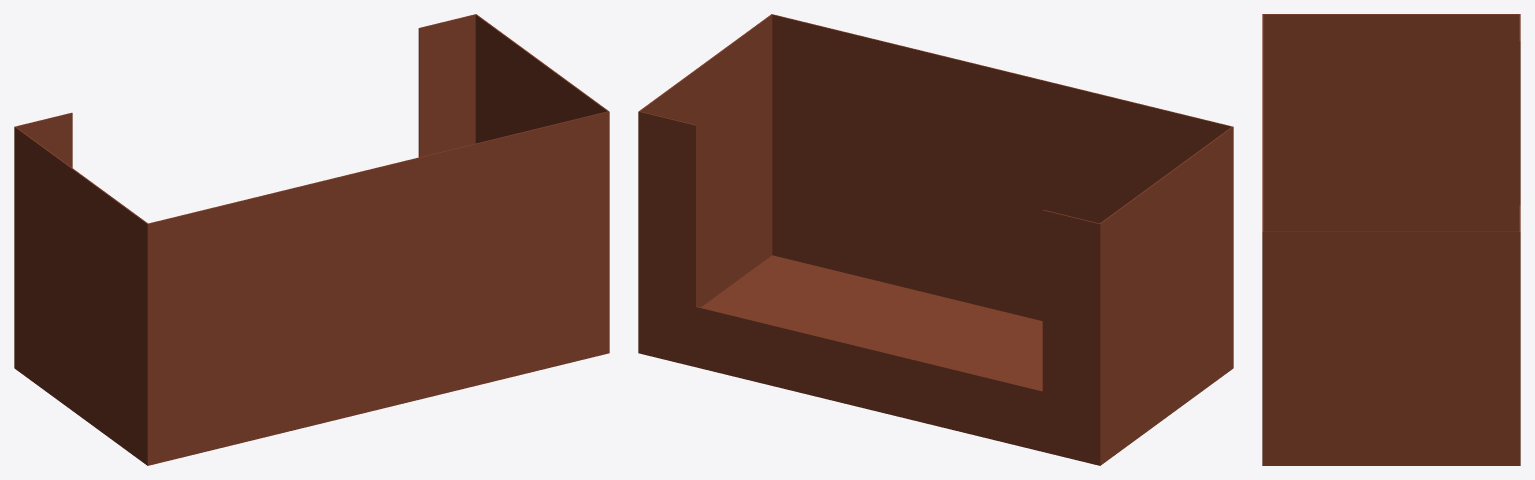
File: Grocery Box.dae
3 renders of one model, left to right at view 1: azimuth 30°, elevation 25°; view 2: azimuth 150°, elevation 25°; view 3: azimuth 270°, elevation 25°, orthographic. The views are drawn at different scales.
Parts seen in each view (by area): view 1: ad33b30a-e276-48b3-bdf8-90bea10babcb; view 2: ad33b30a-e276-48b3-bdf8-90bea10babcb; view 3: ad33b30a-e276-48b3-bdf8-90bea10babcb.
Boxes of the visible parts, x1,y1,x2,y2 form: ad33b30a-e276-48b3-bdf8-90bea10babcb: (14,14,609,465); ad33b30a-e276-48b3-bdf8-90bea10babcb: (638,14,1233,465); ad33b30a-e276-48b3-bdf8-90bea10babcb: (1262,14,1520,465).
Size of the model in its own units: 24 by 12 by 12.
